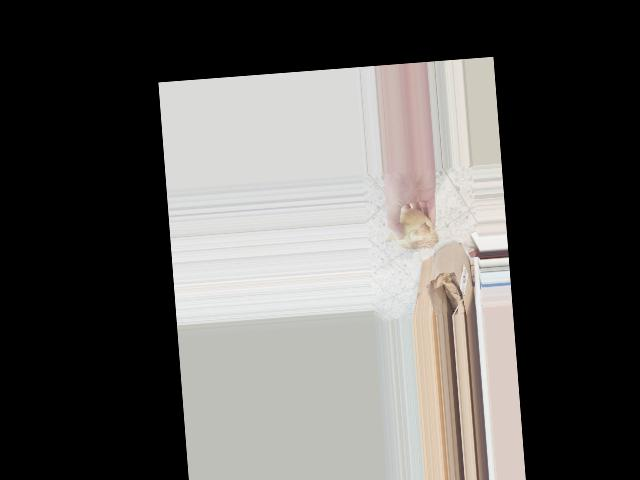onion: (387, 203, 440, 256)
